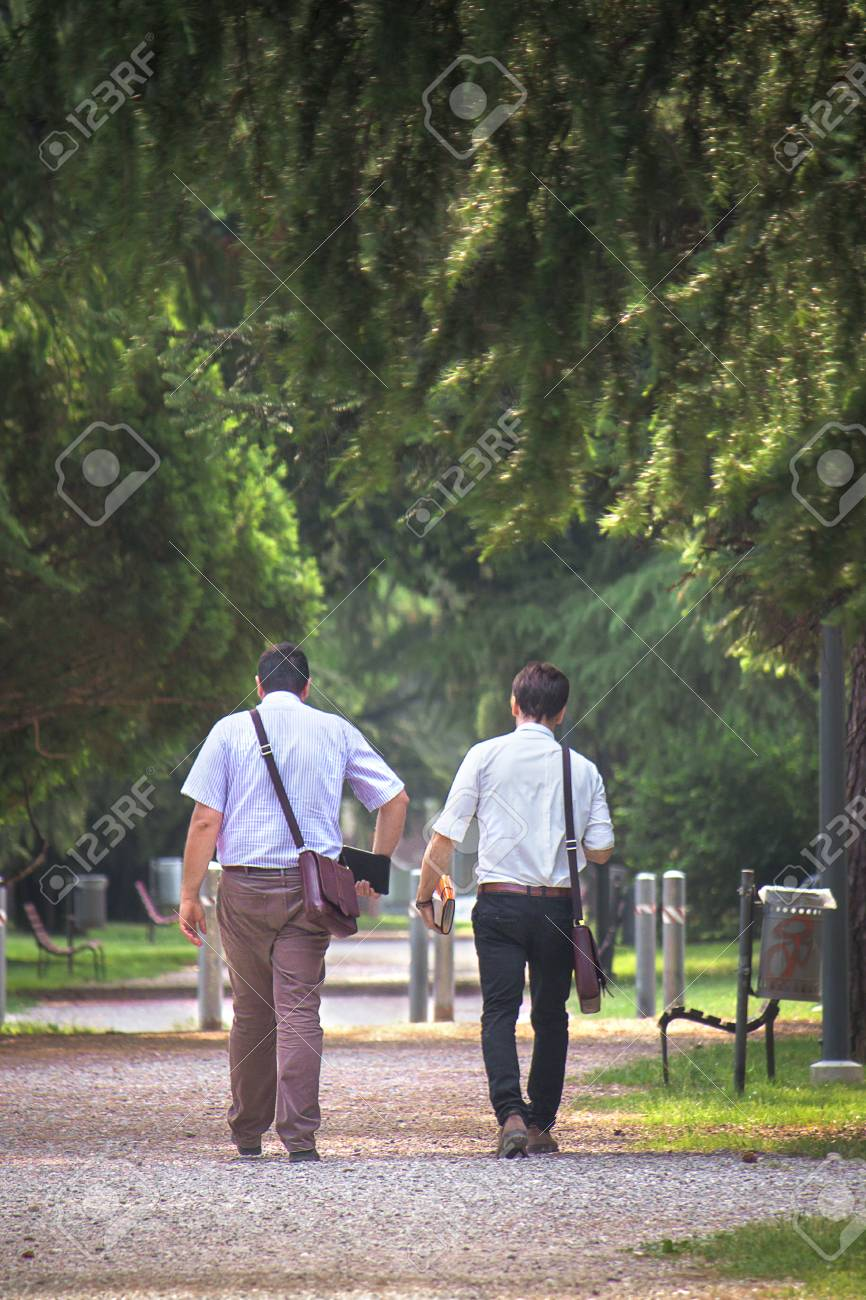Person: (164, 644, 410, 1156), (417, 637, 631, 1164)
